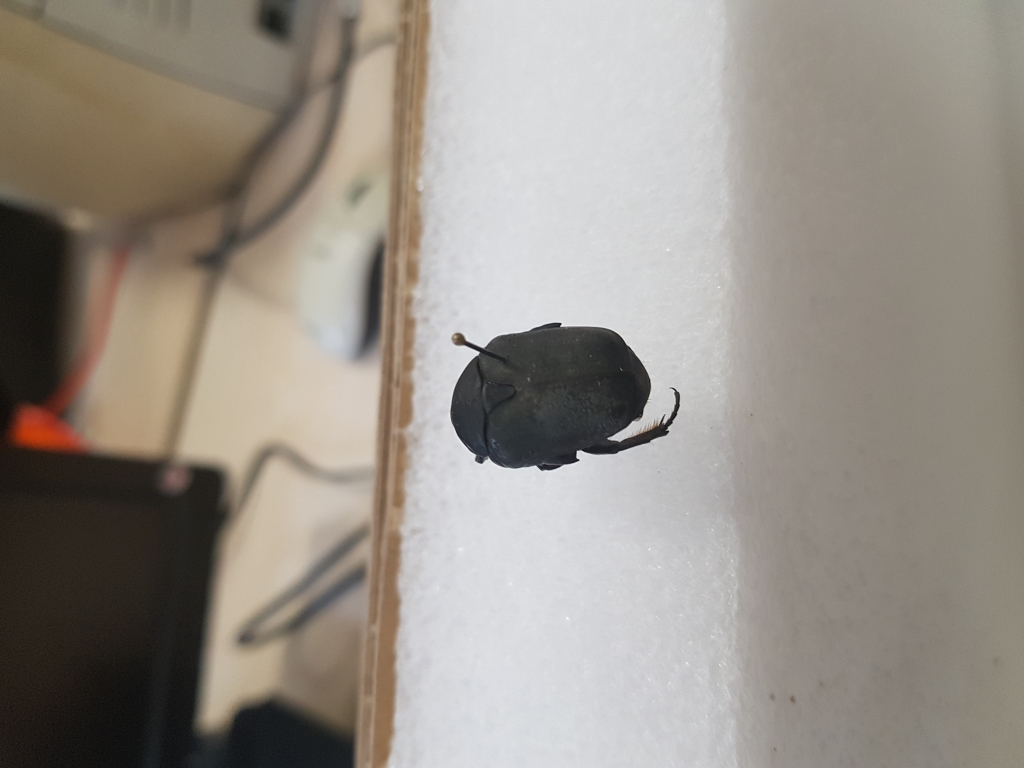Protaetia_afflicta: (445, 320, 687, 483)
